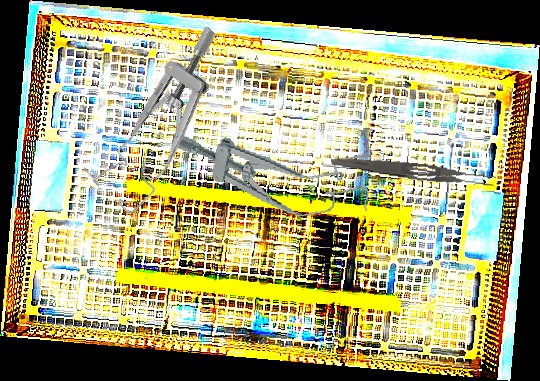Dressing Forceps: (329, 154, 497, 190)
Speculum: (70, 24, 265, 218), (162, 115, 382, 231)
